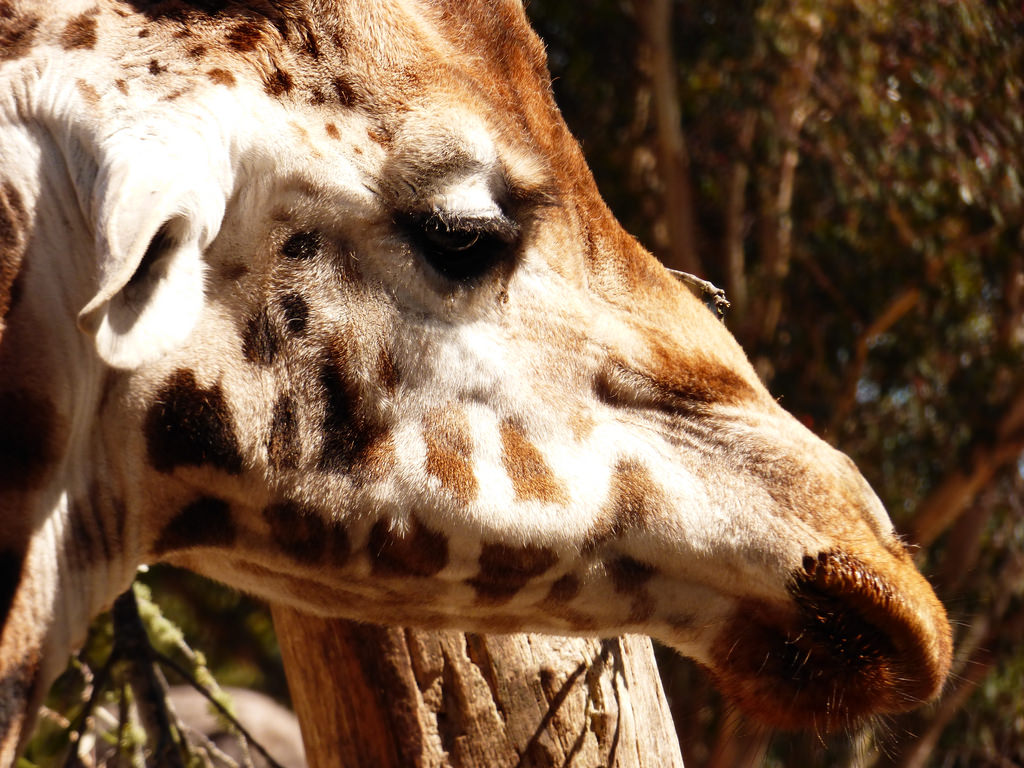giraffe: (28, 24, 961, 742)
